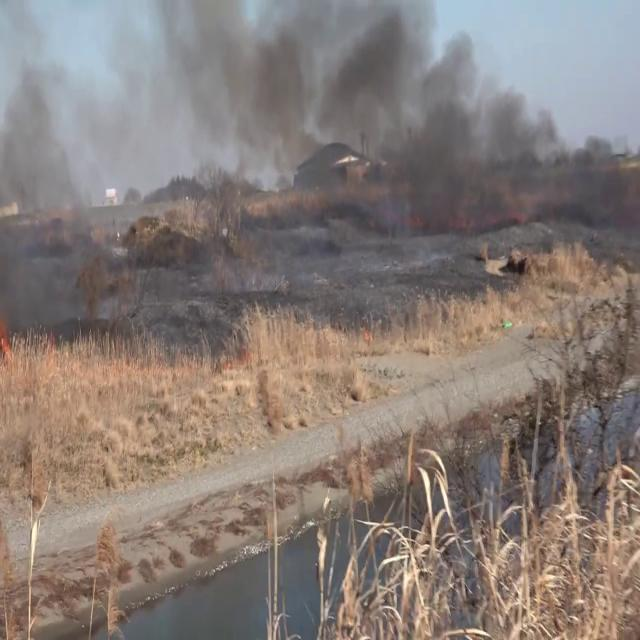Smoke: (137, 1, 632, 220), (0, 0, 135, 297)
